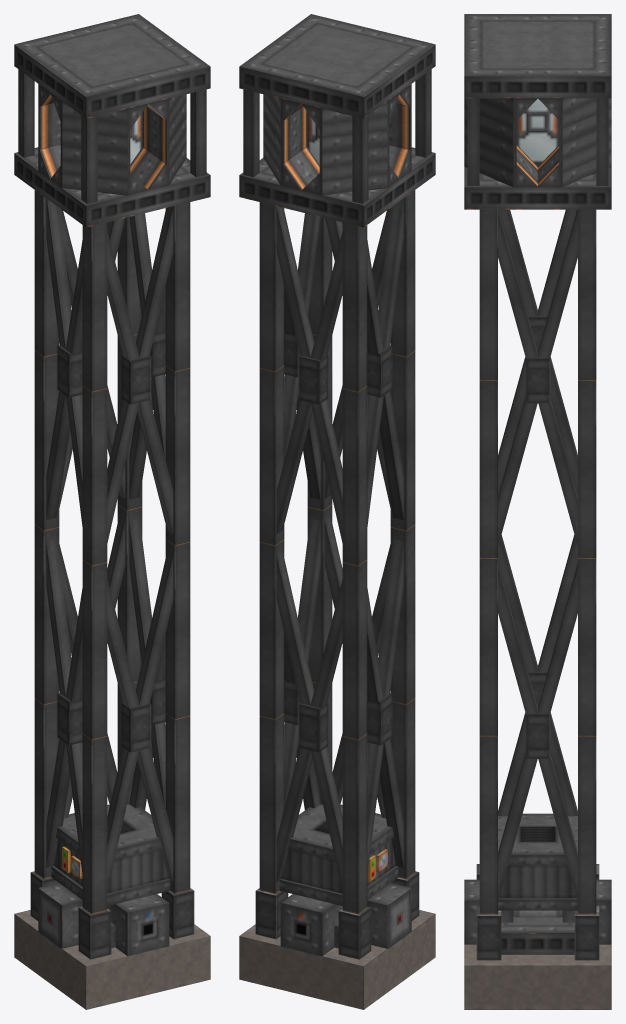
The model's file is solar_melter_mirrored.obj.
The picture shows the model from 3 angles, left to right: view 1: azimuth 30°, elevation 25°; view 2: azimuth 150°, elevation 25°; view 3: azimuth 270°, elevation 25°; orthographic projection. The views are drawn at different scales.
Parts seen in each view (by area): view 1: solar_melter; view 2: solar_melter; view 3: solar_melter.
Boxes of the visible parts, box(x1,y1,x2,y2) form: solar_melter: box(14, 14, 210, 1009); solar_melter: box(239, 14, 435, 1009); solar_melter: box(464, 14, 611, 1009).
Size of the model in its own units: 3 by 21 by 3.
